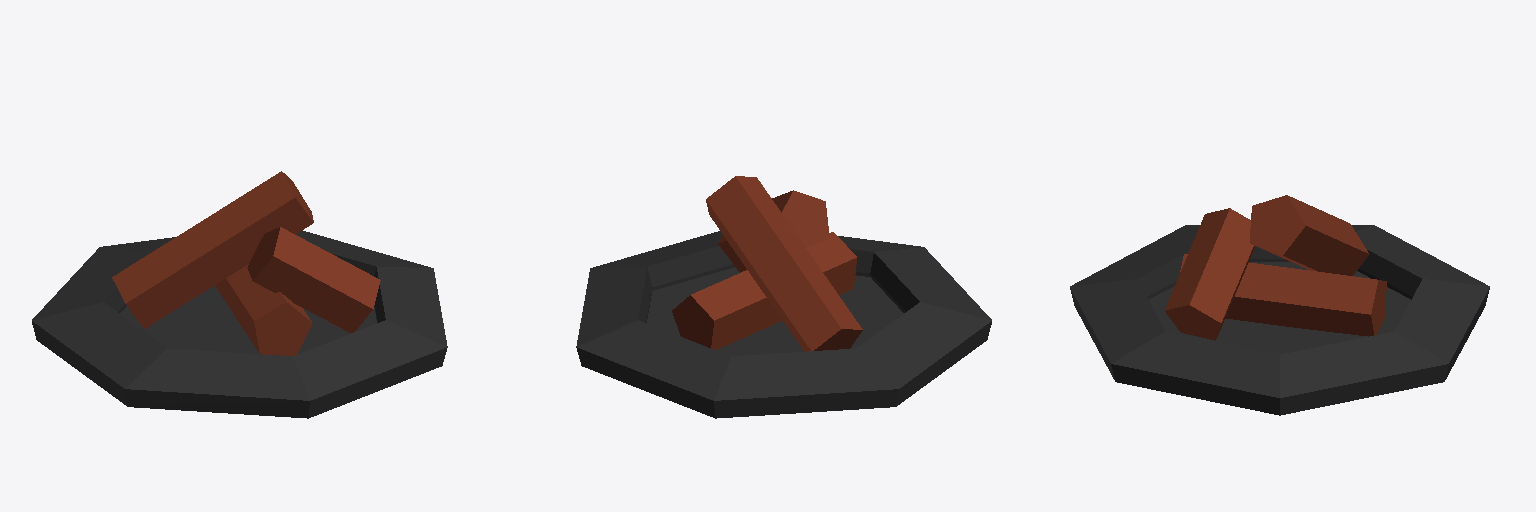
The model's file is firepit.obj.
3 renders of one model, left to right at view 1: azimuth 30°, elevation 25°; view 2: azimuth 150°, elevation 25°; view 3: azimuth 270°, elevation 25°, orthographic.
Visible parts, largest first — view 1: pCylinder1, pCylinder3, pCylinder4, pCylinder2; view 2: pCylinder1, pCylinder3, pCylinder2, pCylinder4; view 3: pCylinder1, pCylinder2, pCylinder4, pCylinder3.
Boxes of the visible parts, box(x1,y1,x2,y2) form: pCylinder1: box(32, 230, 447, 418); pCylinder3: box(112, 171, 313, 328); pCylinder4: box(247, 227, 380, 332); pCylinder2: box(215, 264, 312, 355); pCylinder1: box(576, 231, 991, 418); pCylinder3: box(706, 176, 862, 351); pCylinder2: box(672, 232, 856, 349); pCylinder4: box(718, 190, 829, 272); pCylinder1: box(1070, 225, 1489, 415); pCylinder2: box(1180, 254, 1386, 336); pCylinder4: box(1165, 208, 1254, 340); pCylinder3: box(1250, 195, 1368, 275).
Bounding box in the file's own units: 2.73 × 1.1 × 2.79.